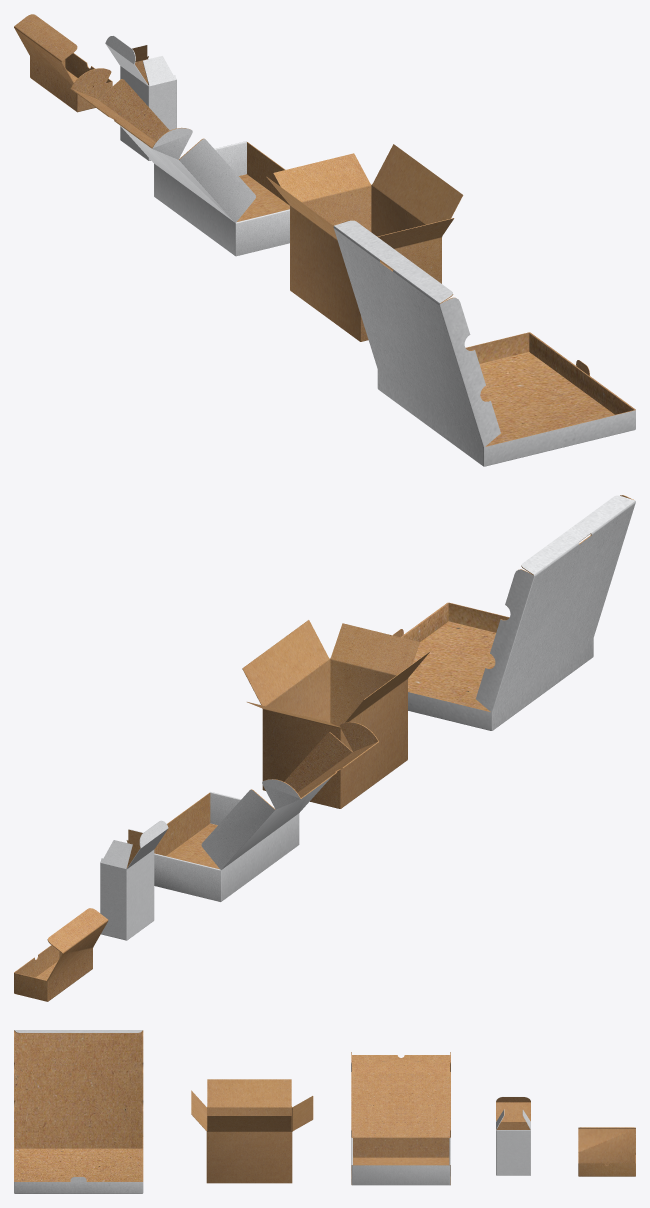
The model's file is cardboard-boxes.glb.
3 renders of one model, top to bottom at view 1: azimuth 30°, elevation 25°; view 2: azimuth 150°, elevation 25°; view 3: azimuth 270°, elevation 25°, orthographic. The views are drawn at different scales.
Visible parts, largest first — view 1: Box1, Box2, Box3, Box5, Box4; view 2: Box1, Box2, Box3, Box4, Box5; view 3: Box1, Box3, Box2, Box5, Box4.
Part boxes in pixels (box(x1,y1,x2,y2)): Box1: box(333, 220, 635, 466); Box2: box(266, 144, 463, 341); Box3: box(70, 68, 289, 256); Box5: box(14, 14, 112, 112); Box4: box(105, 36, 176, 160); Box1: box(393, 495, 635, 730); Box2: box(242, 620, 430, 808); Box3: box(154, 722, 378, 901); Box4: box(100, 820, 168, 940); Box5: box(14, 908, 108, 1001); Box1: box(14, 1030, 143, 1193); Box3: box(351, 1052, 450, 1185); Box2: box(191, 1079, 313, 1183); Box5: box(578, 1127, 635, 1176); Box4: box(496, 1096, 530, 1175).
Size of the model in its own units: 5.04 by 4.16 by 21.68.
Materials: 2 (2 with a texture image).
